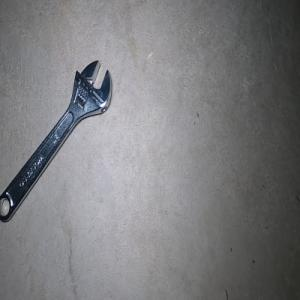Wrench: (0, 60, 111, 222)
